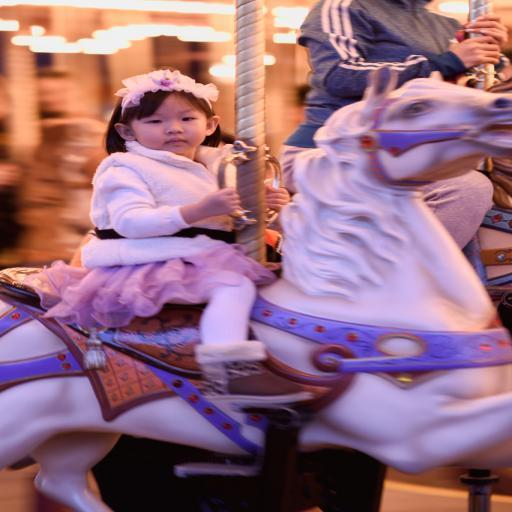horse: (0, 62, 512, 512)
